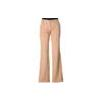pantaloni: (40, 18, 62, 81)
